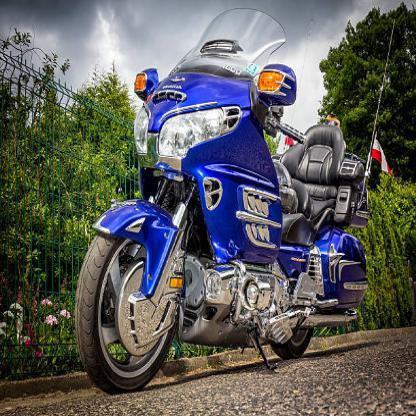Motorcycle: (66, 10, 379, 395)
